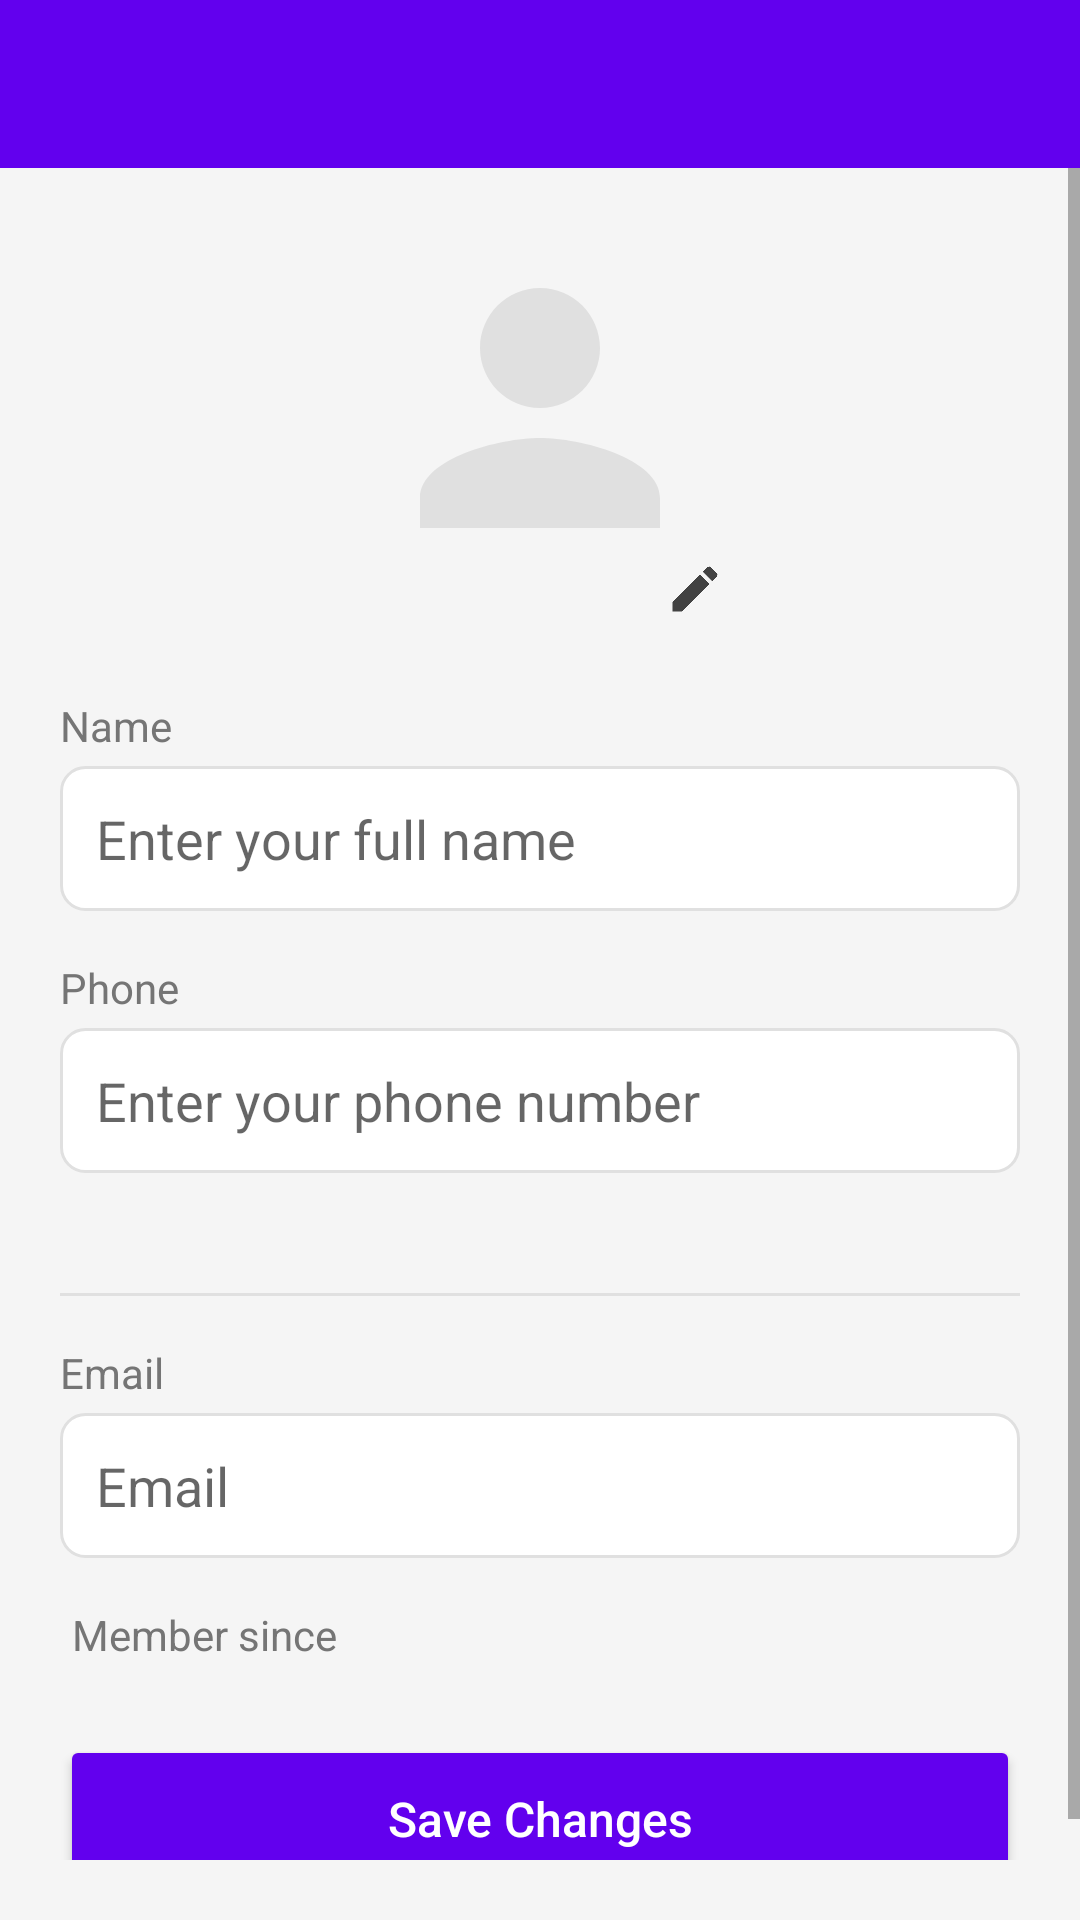

Screen size 1080 × 1920. Icon name, then its center in pixels as (x,y):
Edit Profile: (695,589)
